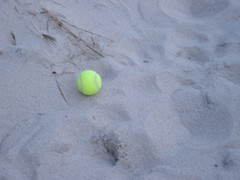tennis ball: (74, 68, 105, 98)
